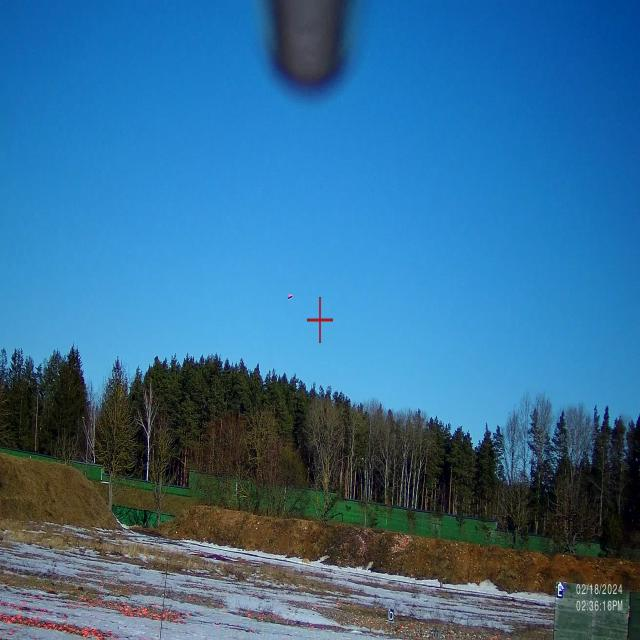entire: (283, 288, 296, 308)
